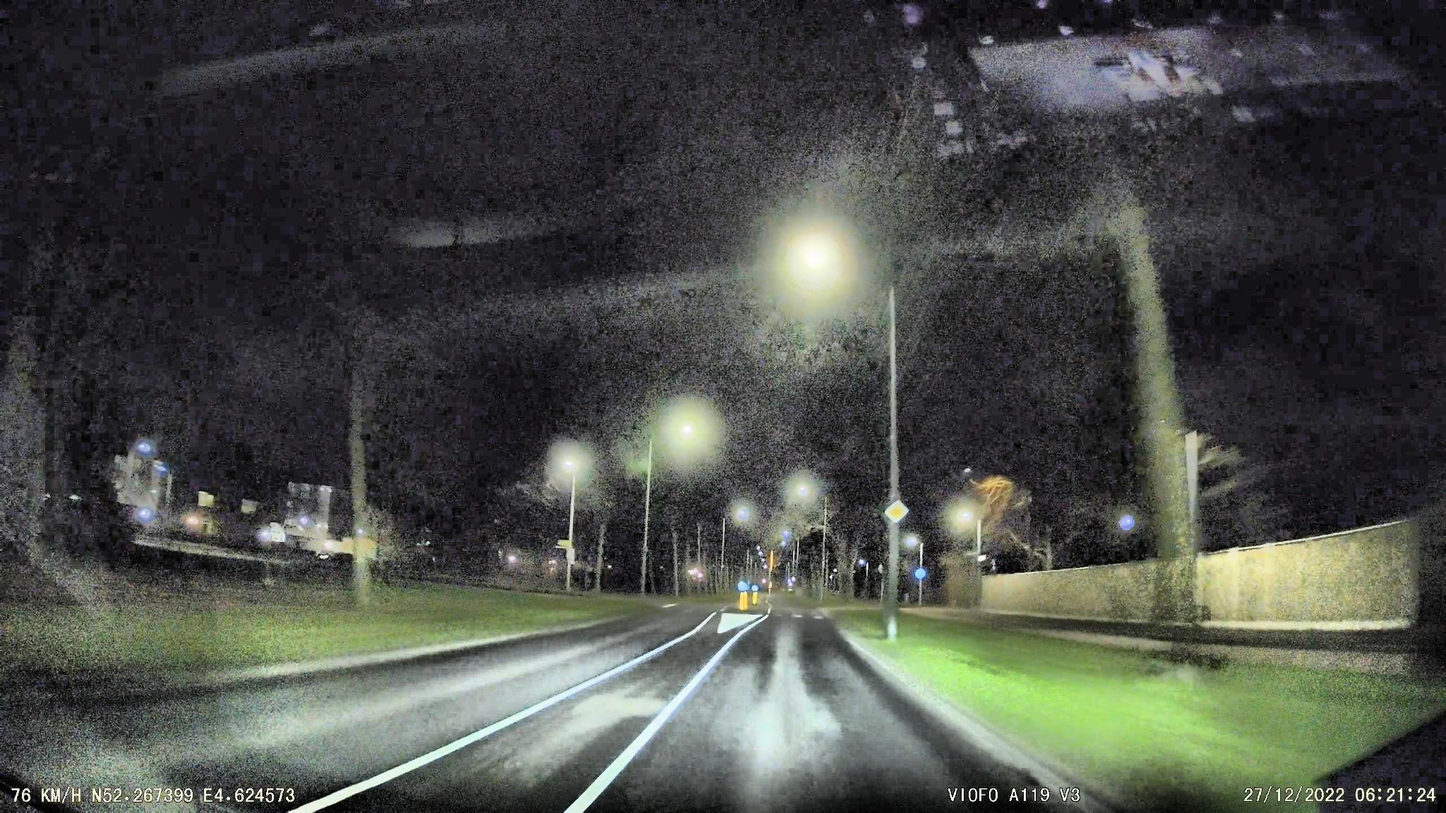Roads: (0, 606, 1134, 813)
